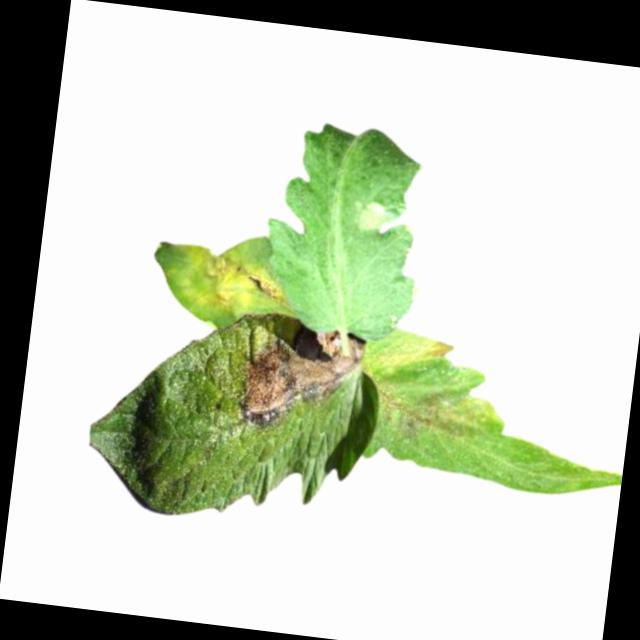Late_blight: (234, 319, 367, 438), (179, 240, 294, 319), (374, 382, 497, 452), (363, 327, 458, 386), (352, 197, 400, 235)
